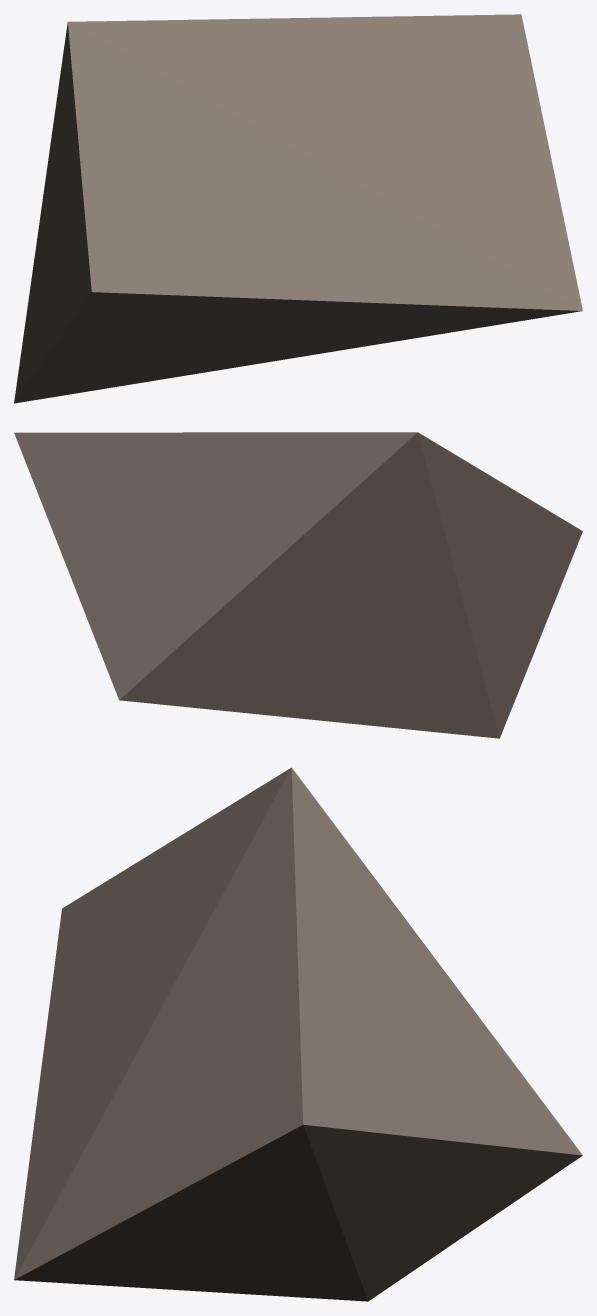
The model's file is tl_env_stone_small_c_v01.glb.
3 renders of one model, top to bottom at view 1: azimuth 30°, elevation 25°; view 2: azimuth 150°, elevation 25°; view 3: azimuth 270°, elevation 25°, orthographic. The views are drawn at different scales.
Visible parts, largest first — view 1: tl_env_stone_small_c_v01; view 2: tl_env_stone_small_c_v01; view 3: tl_env_stone_small_c_v01.
Boxes of the visible parts, <box> form: tl_env_stone_small_c_v01: <box>14,14,582,403</box>; tl_env_stone_small_c_v01: <box>14,432,582,738</box>; tl_env_stone_small_c_v01: <box>14,767,582,1301</box>.
Bounding box in the file's own units: 0.13 × 0.08 × 0.11.
